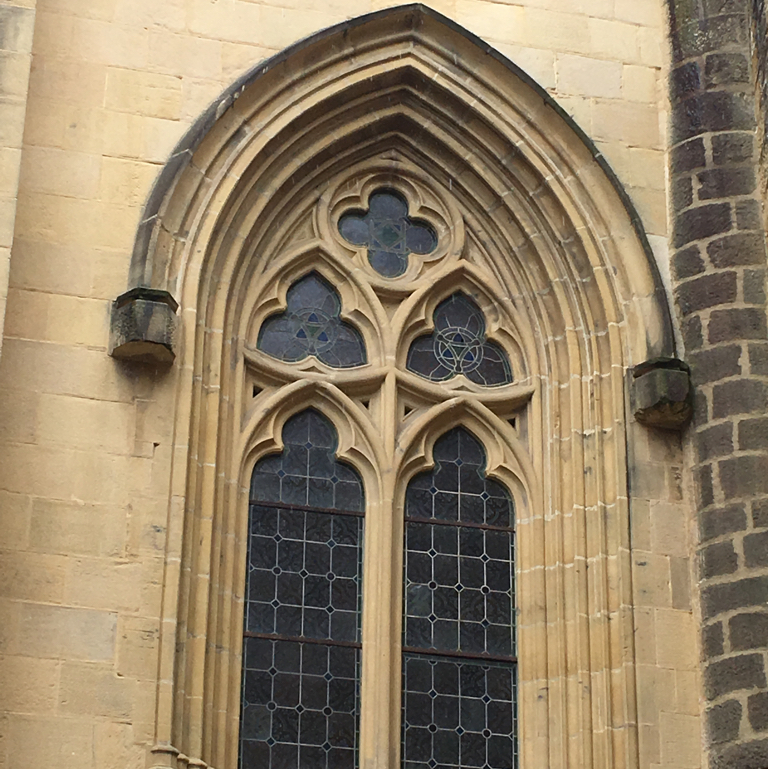arco-apuntado: (149, 1, 645, 399)
